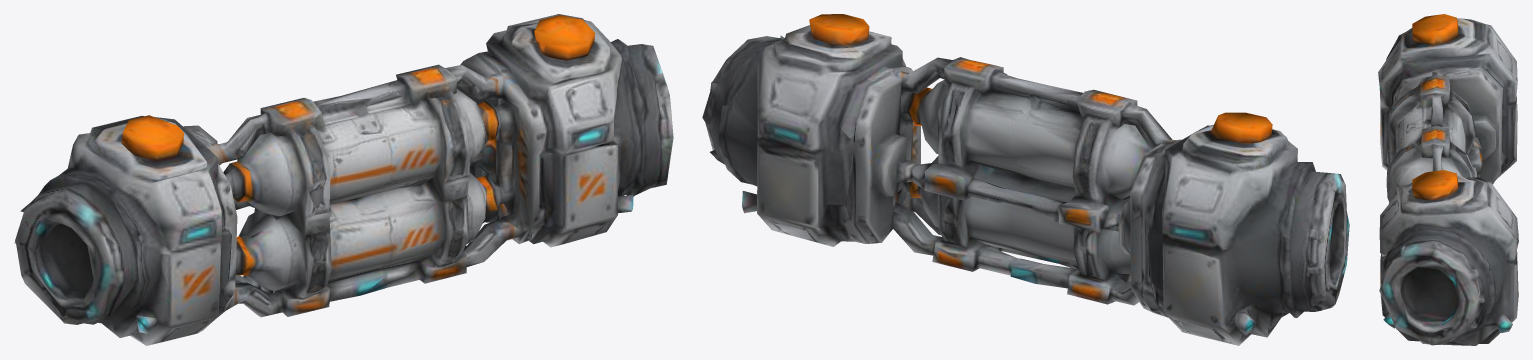
The model's file is tanks.glb.
The picture shows the model from 3 angles, left to right: view 1: azimuth 30°, elevation 25°; view 2: azimuth 150°, elevation 25°; view 3: azimuth 270°, elevation 25°; orthographic projection. The views are drawn at different scales.
Parts seen in each view (by area): view 1: tripo_node_93235281-207d-4f63-9209-bbefcaace7e4; view 2: tripo_node_93235281-207d-4f63-9209-bbefcaace7e4; view 3: tripo_node_93235281-207d-4f63-9209-bbefcaace7e4.
Part boxes in pixels (box(x1,y1,x2,y2)): tripo_node_93235281-207d-4f63-9209-bbefcaace7e4: box(14, 14, 673, 345); tripo_node_93235281-207d-4f63-9209-bbefcaace7e4: box(702, 14, 1349, 345); tripo_node_93235281-207d-4f63-9209-bbefcaace7e4: box(1378, 14, 1518, 345).
Size of the model in its own units: 0.9796 by 0.3091 by 0.2435.
1 material, 1 textured.
